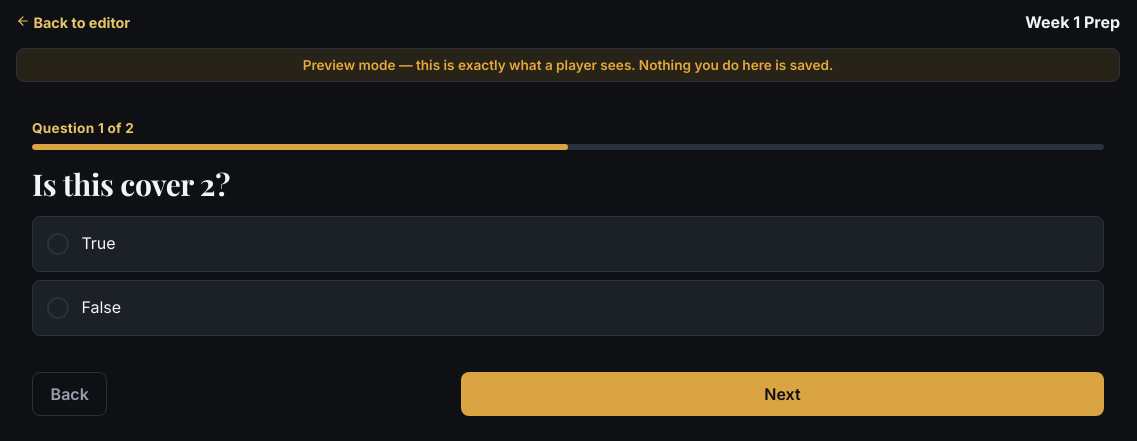
QuizPreviewPage › walks one question at a time when the quiz is set to that mode
The image size is (1137, 441).
Check: the text "Question 1 of 2" is shown, box 32,120 -> 134,136
Check: the text "Describe the coverage." is not shown
Step 1. Click the button "Next" → click(782, 394), box 461,372 -> 1104,416
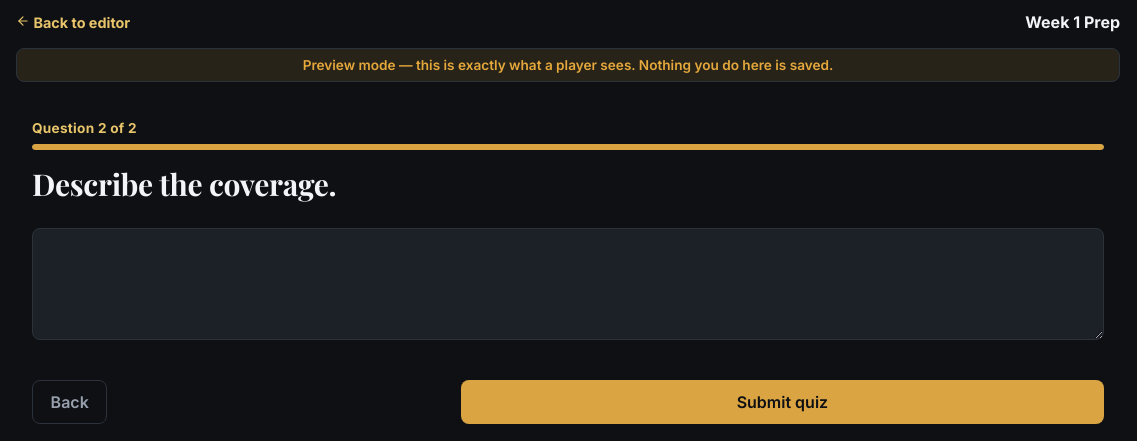
Check: the text "Describe the coverage." is shown, box 32,164 -> 336,204
Check: the text "Question 2 of 2" is shown, box 32,120 -> 137,136
Step 2. Click the button "Submit quiz" → click(782, 402), box 461,380 -> 1104,424
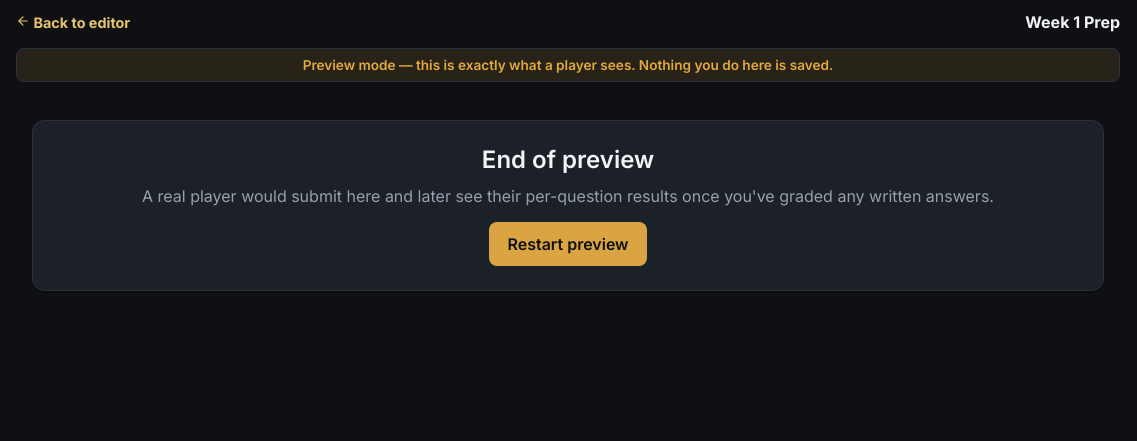
Check: the heading "End of preview" is shown, box 482,145 -> 654,174
